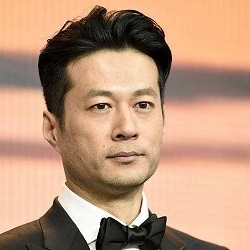unmask: (69, 65, 167, 197)
